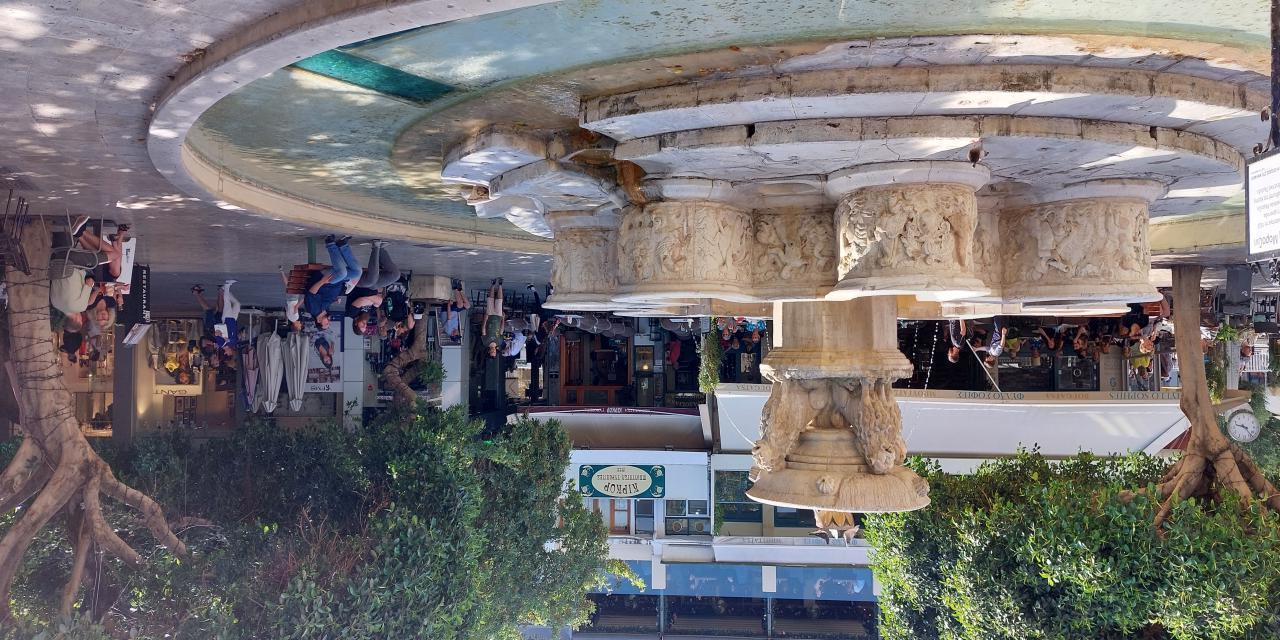Liontaria: (545, 155, 1160, 513)
